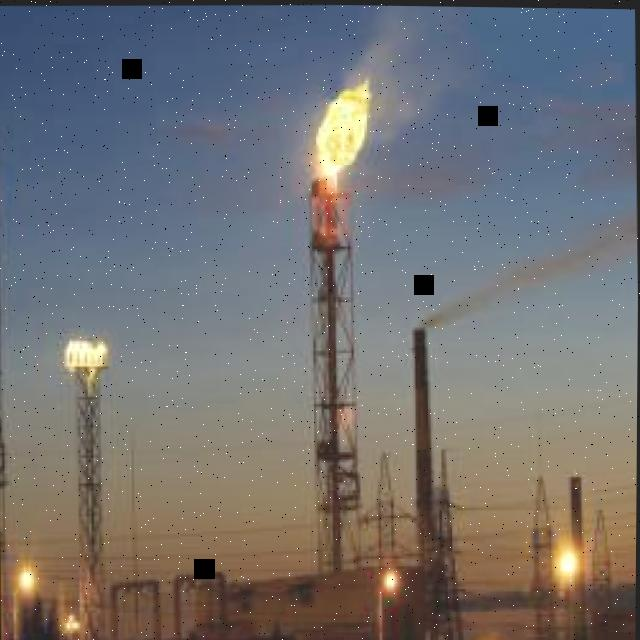fire: (316, 76, 369, 173)
smoke: (417, 212, 637, 322), (338, 4, 473, 170)
